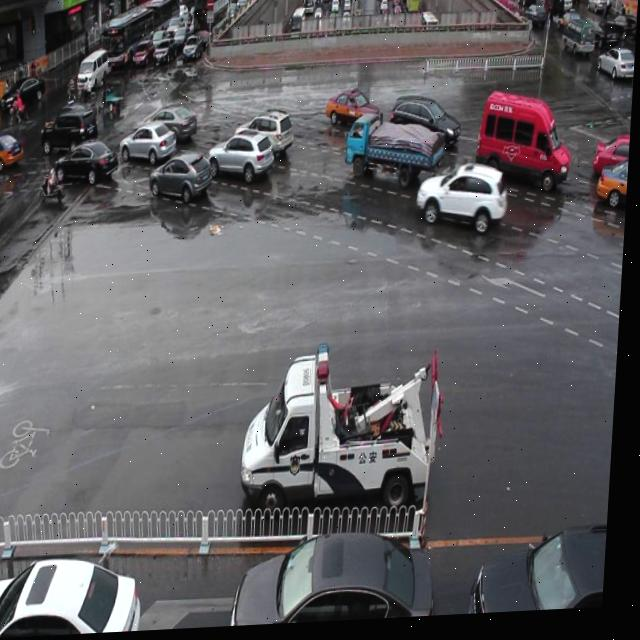bus: (245, 337, 453, 524), (346, 115, 447, 192)
car: (238, 530, 445, 629), (0, 552, 150, 640), (475, 531, 614, 619), (418, 166, 513, 240), (392, 96, 462, 155), (210, 130, 277, 189), (235, 113, 295, 166), (152, 155, 215, 204), (122, 125, 179, 168), (328, 91, 383, 133), (144, 107, 199, 145), (594, 137, 632, 182), (597, 165, 631, 215)
truck: (476, 92, 575, 197)
